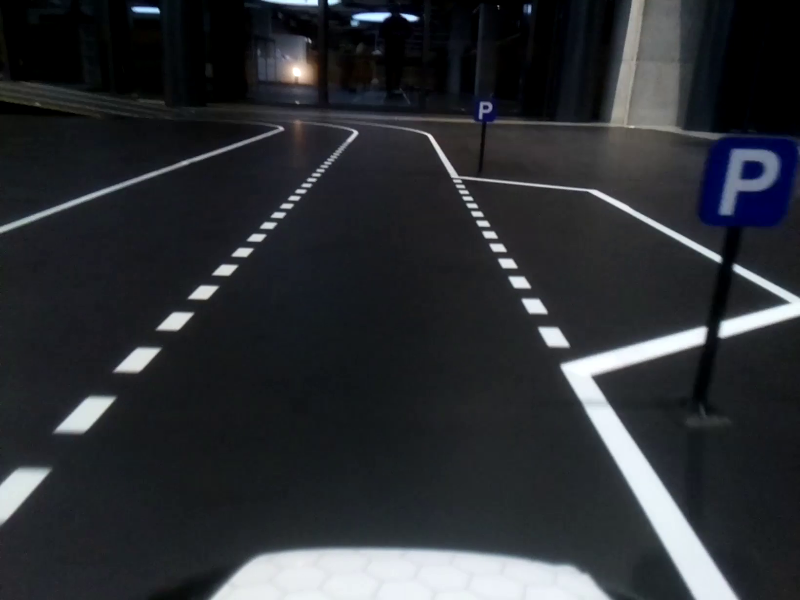park: (704, 141, 791, 227)
